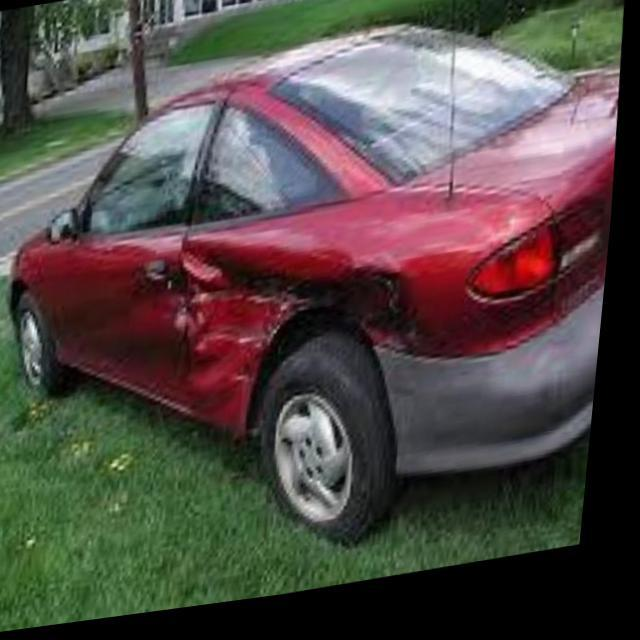dent: (178, 218, 511, 451)
